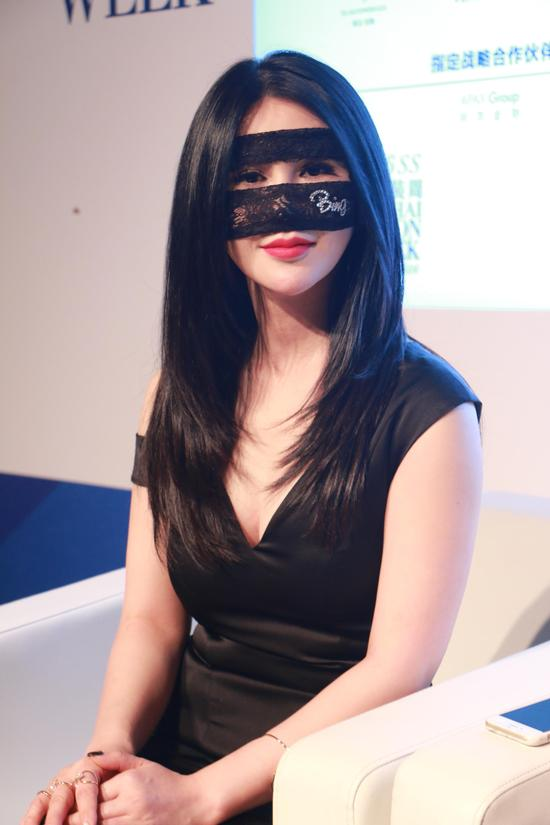face: (224, 97, 351, 294)
